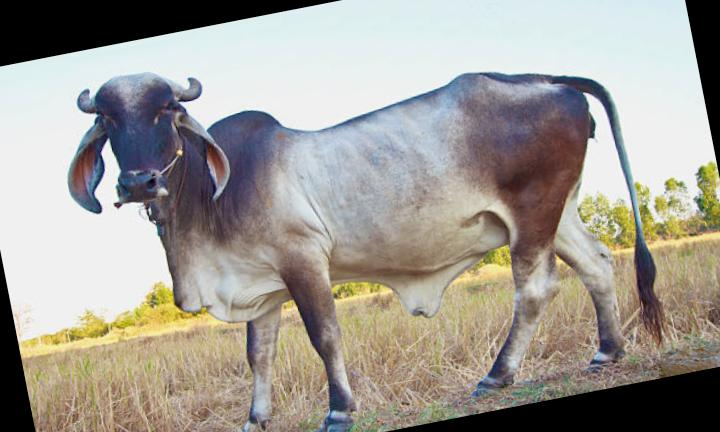Brahman: (68, 72, 635, 432)
